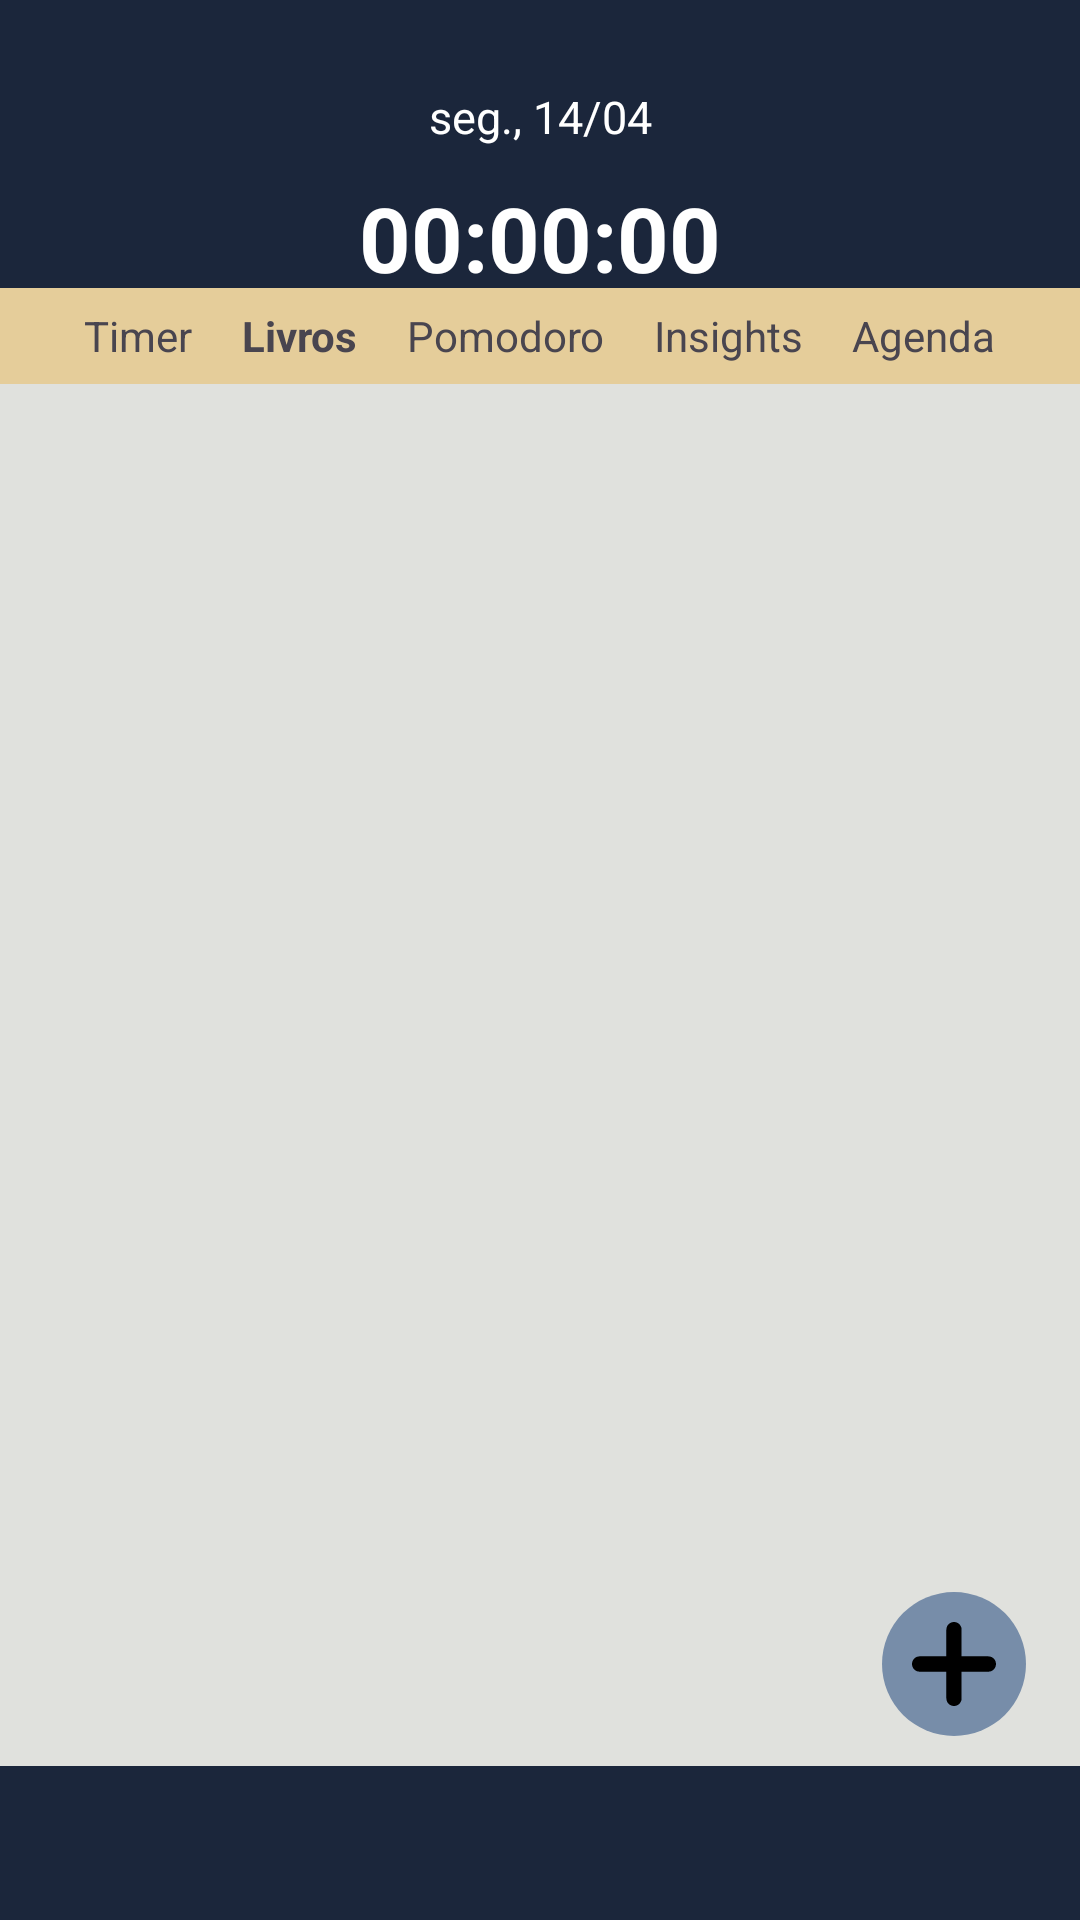

Where to tap for icons on this 1080*1920 app screen, as point (x, y):
Add: point (954, 1664)
